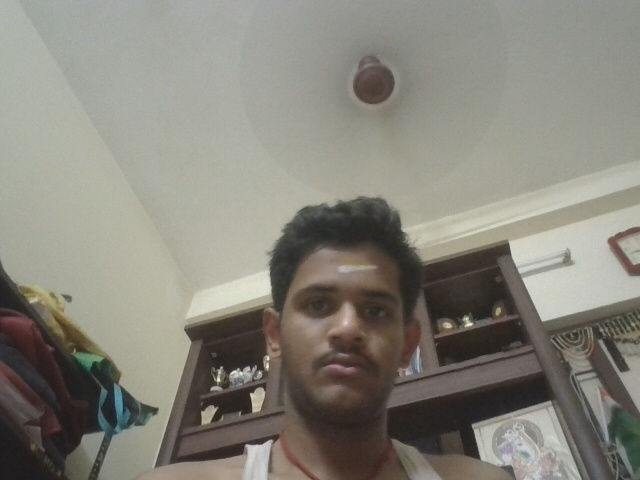real: (265, 239, 430, 404)
